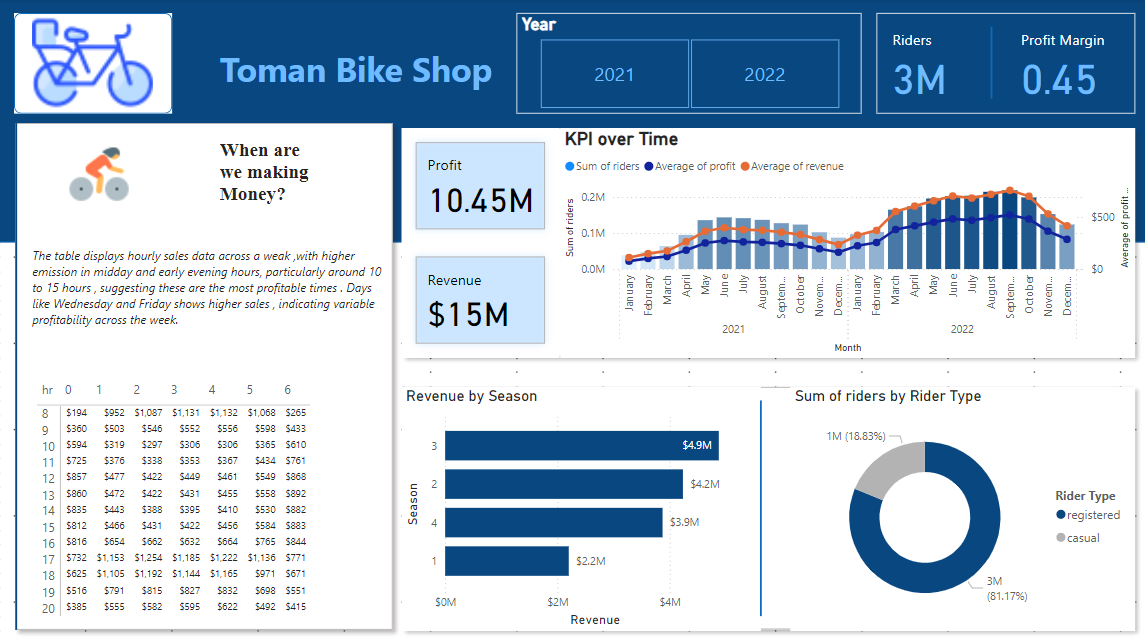

This screenshot's page, from the dashboard's own definition file:
{"tool":"powerbi","page":{"name":"Page 1","canvas":[1280,720],"ordinal":0},"visuals":[{"type":"shape","box":[0,0,1280,272],"z":0},{"type":"cardVisual","fields":{"Data":["Min(Query1.riders)"]},"box":[1.4,122.4,455,598.3],"z":1000},{"type":"cardVisual","fields":{"Data":["Min(Query1.riders)"]},"box":[432,128,848,288],"z":2000},{"type":"cardVisual","fields":{"Data":["Min(Query1.riders)"]},"box":[432,416,848,304],"z":3000},{"type":"image","box":[27.8,151.7,167,89],"z":4000},{"type":"pivotTable","fields":{"Rows":["Query1.hr"],"Values":["Avg(Query1.revenue)"],"Columns":["Query1.weekday"]},"box":[37.6,421.6,386.8,274.1],"z":5000},{"type":"textbox","box":[240.7,151.7,183.7,89],"z":5001},{"type":"textbox","box":[32,272,400,112],"z":5002},{"type":"lineClusteredColumnComboChart","title":"KPI over Time","fields":{"Category":["Query1.dteday.Variation.Date Hierarchy.Year","Query1.dteday.Variation.Date Hierarchy.Month","Query1.dteday.Variation.Date Hierarchy.Day"],"Y":["Sum(Query1.riders)"],"Y2":["Avg(Query1.profit)","Avg(Query1.revenue)"]},"box":[624,144,640,256],"z":5003},{"type":"clusteredBarChart","fields":{"Y":["Sum(Query1.revenue)"],"Category":["Query1.season"]},"box":[448,432,400,272],"z":5004},{"type":"donutChart","fields":{"Y":["Sum(Query1.riders)"],"Category":["Query1.rider_type"]},"box":[880,432,384,272],"z":5005},{"type":"shape","box":[704,448,288,240],"z":5006},{"type":"cardVisual","title":"KPI over Time","fields":{"Data":["Sum(Query1.profit)","Sum(Query1.revenue)"]},"box":[448,144,176,256],"z":5007},{"type":"cardVisual","fields":{"Data":["Sum(Query1.riders)","Query1.Profit Margin"]},"box":[976,16,288,112],"z":5008},{"type":"shape","box":[1040,32,128,80],"z":5009},{"type":"textbox","box":[32,16,400,80],"z":5010},{"type":"shape","box":[16,16,176,112],"z":5011},{"type":"image","box":[32,0,144,144],"z":5012},{"type":"textbox","box":[240,48,336,64],"z":5013},{"type":"slicer","title":"Year","fields":{"Values":["Query1.Year"]},"box":[576,16,384,112],"z":5014}]}

Visuals, with their boxes in screenshot pixels (x1, y1, x2, y2), scaled from the page's 1280x720 canvas onto the 1145x642 screenshot:
shape: detection(0, 0, 1144, 243)
cardVisual - Min(Query1.riders): detection(1, 109, 408, 641)
cardVisual - Min(Query1.riders): detection(386, 114, 1144, 371)
cardVisual - Min(Query1.riders): detection(386, 371, 1144, 641)
image: detection(25, 135, 174, 215)
pivotTable - Query1.hr x Avg(Query1.revenue): detection(34, 376, 380, 620)
textbox: detection(215, 135, 380, 215)
textbox: detection(29, 243, 386, 342)
"KPI over Time" lineClusteredColumnComboChart: detection(558, 128, 1131, 357)
clusteredBarChart - Sum(Query1.revenue) x Query1.season: detection(401, 385, 759, 628)
donutChart - Sum(Query1.riders) x Query1.rider_type: detection(787, 385, 1131, 628)
shape: detection(630, 399, 887, 613)
"KPI over Time" cardVisual: detection(401, 128, 558, 357)
cardVisual - Sum(Query1.riders) x Query1.Profit Margin: detection(873, 14, 1131, 114)
shape: detection(930, 29, 1045, 100)
textbox: detection(29, 14, 386, 86)
shape: detection(14, 14, 172, 114)
image: detection(29, 0, 157, 128)
textbox: detection(215, 43, 515, 100)
"Year" slicer: detection(515, 14, 859, 114)
